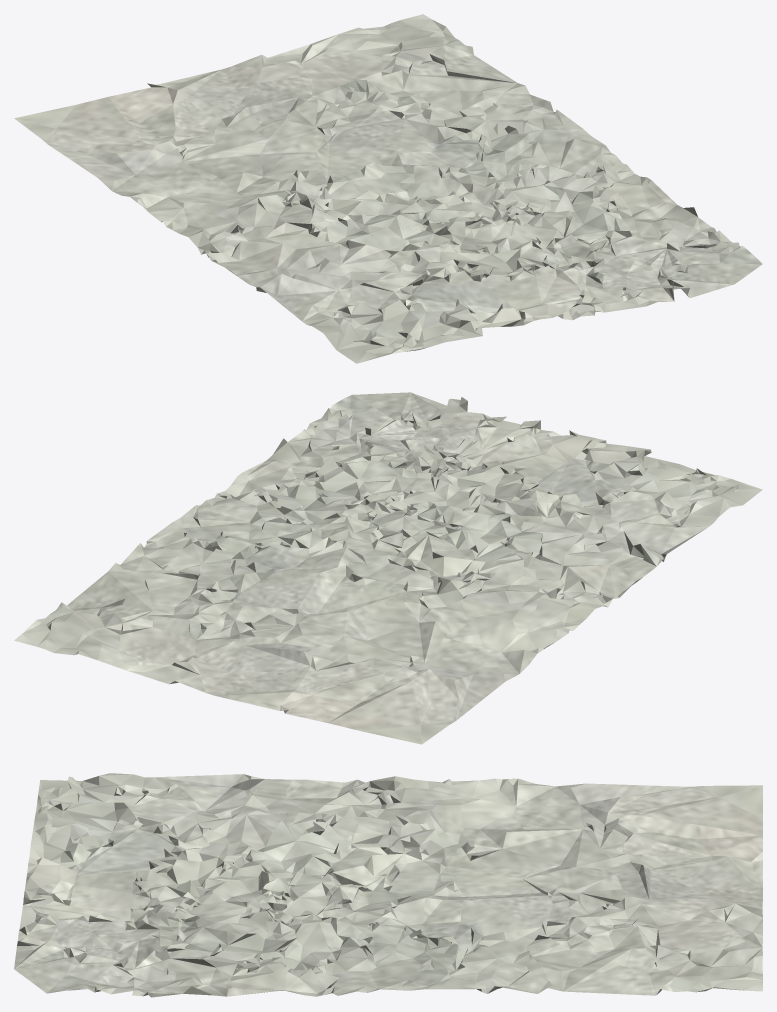
Rendered from gnd_grass.glb.
3 renders of one model, top to bottom at view 1: azimuth 30°, elevation 25°; view 2: azimuth 150°, elevation 25°; view 3: azimuth 270°, elevation 25°, orthographic. The views are drawn at different scales.
Parts seen in each view (by area): view 1: Mesh_0_Material_0_0; view 2: Mesh_0_Material_0_0; view 3: Mesh_0_Material_0_0.
Part boxes in pixels (x1,y1,x2,y2): Mesh_0_Material_0_0: (14, 14, 762, 363); Mesh_0_Material_0_0: (14, 392, 762, 744); Mesh_0_Material_0_0: (14, 773, 762, 997).
Bounding box in the file's own units: 2.48 × 0.1825 × 3.71.
Materials: 1 (1 with a texture image).
